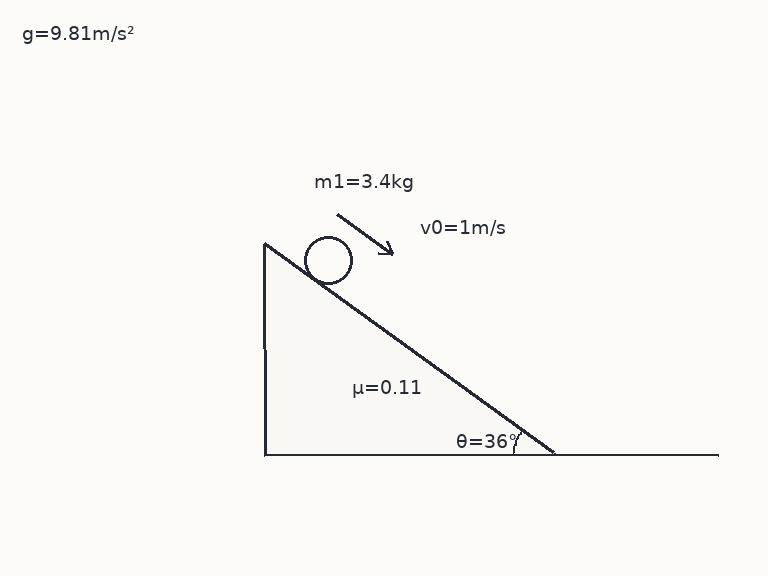ball: (302, 234, 354, 286)
ramp: (262, 242, 556, 456)
